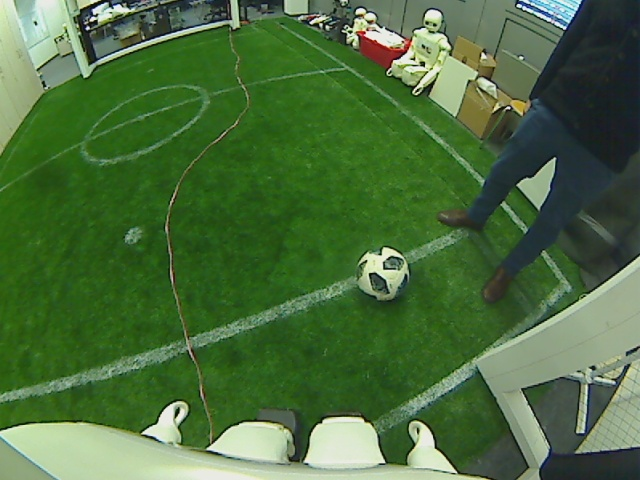ball: (353, 244, 410, 304)
